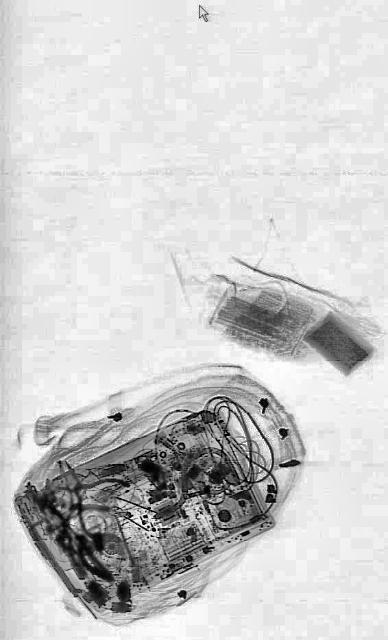Pliers: (46, 434, 130, 554)
